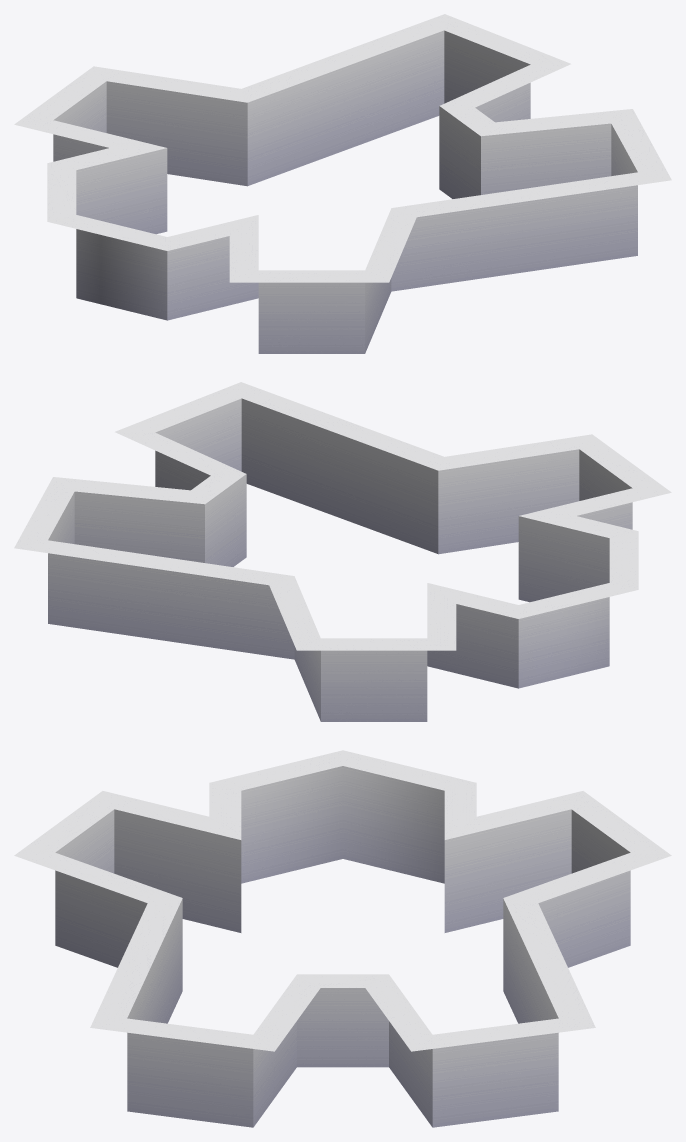
The model's file is ginger-bread-cutter.glb.
The picture shows the model from 3 angles, top to bottom: view 1: azimuth 30°, elevation 25°; view 2: azimuth 150°, elevation 25°; view 3: azimuth 270°, elevation 25°; orthographic projection. The views are drawn at different scales.
Visible parts, largest first — view 1: ginger-bread-cutter; view 2: ginger-bread-cutter; view 3: ginger-bread-cutter.
Boxes of the visible parts, <box> form: ginger-bread-cutter: <box>14,14,671,353</box>; ginger-bread-cutter: <box>14,382,671,721</box>; ginger-bread-cutter: <box>14,750,671,1127</box>.
Bounding box in the file's own units: 0.2919 × 0.042 × 0.2693.
Materials: 1 (1 with a texture image).
